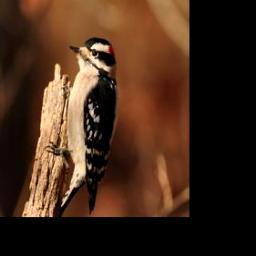Woodpecker: (44, 31, 118, 213)
